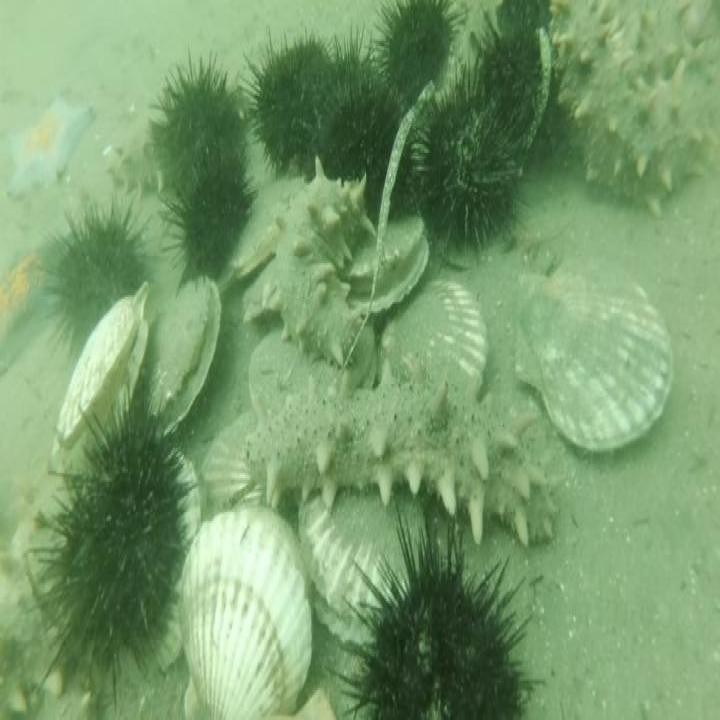echinus: (33, 377, 198, 706), (324, 499, 546, 720), (414, 66, 528, 261), (302, 30, 411, 222), (39, 199, 149, 366), (468, 1, 570, 164), (146, 51, 248, 201), (244, 26, 338, 180), (160, 144, 251, 281), (368, 0, 468, 112)
holothurian: (243, 352, 565, 549), (546, 0, 709, 222), (261, 170, 379, 372), (1, 455, 82, 718), (609, 0, 718, 87), (100, 123, 175, 199)
scallop: (513, 258, 676, 457), (176, 505, 314, 720), (299, 489, 430, 647), (51, 278, 148, 476), (384, 266, 491, 402), (146, 274, 224, 446), (151, 448, 206, 681), (340, 212, 430, 320), (246, 324, 339, 422), (228, 169, 309, 279), (197, 409, 268, 514), (432, 233, 522, 277)
starfish: (3, 93, 99, 206), (1, 238, 72, 386)
